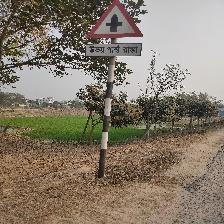Crossroad: (81, 0, 151, 65)
